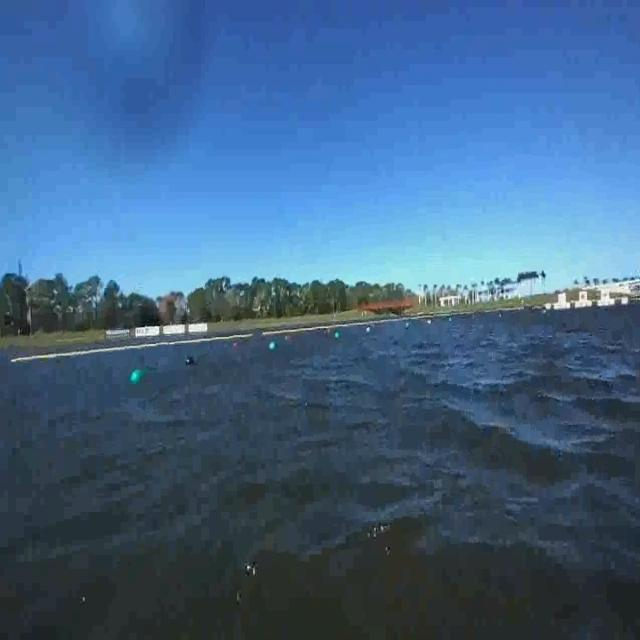green-buoy: (132, 369, 144, 384)
